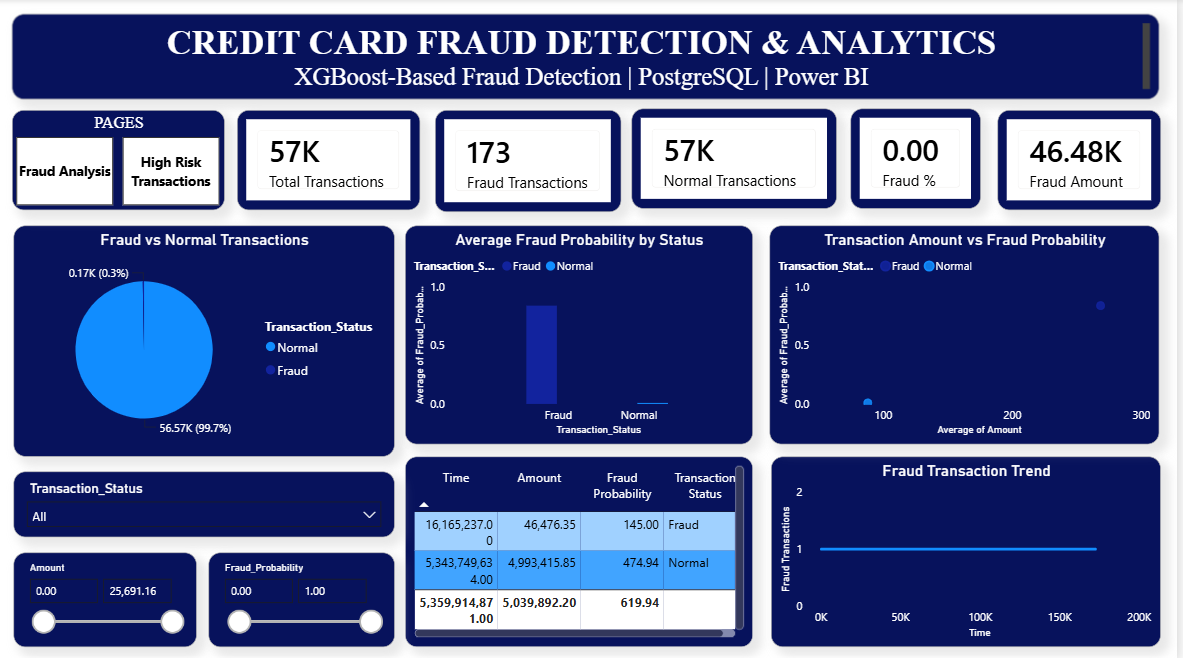

What the dashboard file says about the page in this screenshot:
{"tool":"powerbi","page":{"name":"Fraud Detection Dashboard","canvas":[1280,720],"ordinal":0},"visuals":[{"type":"textbox","box":[16.3,16.3,1244.3,92.7],"z":0},{"type":"cardVisual","fields":{"Data":["fraud_predictions.Total Transactions"]},"box":[260.2,120.4,198.4,109],"z":1000},{"type":"cardVisual","fields":{"Data":["fraud_predictions.Fraud Transactions"]},"box":[475,120.4,201.7,110.6],"z":2000},{"type":"cardVisual","fields":{"Data":["fraud_predictions.Normal Transactions"]},"box":[688,118.7,222.8,109],"z":3000},{"type":"cardVisual","fields":{"Data":["fraud_predictions.Fraud %"]},"box":[925.5,118.7,141.5,109],"z":4000},{"type":"cardVisual","fields":{"Data":["fraud_predictions.Fraud Amount"]},"box":[1084.9,120.4,177.3,109],"z":5000},{"type":"pieChart","title":"Fraud vs Normal Transactions","fields":{"Category":["fraud_predictions.Transaction_Status"],"Y":["CountNonNull(fraud_predictions.Transaction_Status)"]},"box":[17.9,245.6,413.1,250.5],"z":6000},{"type":"clusteredColumnChart","title":"Average Fraud Probability by Status","fields":{"Category":["fraud_predictions.Transaction_Status"],"Y":["Avg(fraud_predictions.Fraud_Probability)"],"Series":["fraud_predictions.Transaction_Status"]},"box":[442.4,245.6,377.4,237.5],"z":7000},{"type":"lineChart","title":"Fraud Transaction Trend","fields":{"Category":["fraud_predictions.Time"],"Y":["fraud_predictions.Fraud Transactions"]},"box":[839.3,496.1,422.9,206.6],"z":8000},{"type":"scatterChart","title":"Transaction Amount vs Fraud Probability","fields":{"Category":["fraud_predictions.Transaction_Status"],"X":["Avg(fraud_predictions.Amount)"],"Y":["Avg(fraud_predictions.Fraud_Probability)"],"Series":["fraud_predictions.Transaction_Status"]},"box":[837.7,245.6,422.9,237.5],"z":9000},{"type":"tableEx","title":"High Risk Transactions Table","fields":{"Values":["Sum(fraud_predictions.Time)","Sum(fraud_predictions.Amount)","Sum(fraud_predictions.Fraud_Probability)","fraud_predictions.Transaction_Status"]},"box":[442.4,496.1,377.4,206.6],"z":10000},{"type":"slicer","fields":{"Values":["fraud_predictions.Transaction_Status"]},"box":[17.9,512.4,413.1,71.6],"z":11000},{"type":"slicer","fields":{"Values":["fraud_predictions.Amount"]},"box":[17.9,600.2,198.4,102.5],"z":12000},{"type":"slicer","fields":{"Values":["fraud_predictions.Fraud_Probability"]},"box":[229.3,600.2,201.7,102.5],"z":13000},{"type":"pageNavigator","title":"PAGES","box":[16.3,120.4,231,109],"z":13001}]}

Visuals, with their boxes in screenshot pixels (x1, y1, x2, y2), scaled from the page's 1280x720 canvas onto the 1183x658 screenshot:
textbox: l=15, t=15, r=1165, b=100
cardVisual - fraud_predictions.Total Transactions: l=240, t=110, r=424, b=210
cardVisual - fraud_predictions.Fraud Transactions: l=439, t=110, r=625, b=211
cardVisual - fraud_predictions.Normal Transactions: l=636, t=108, r=842, b=208
cardVisual - fraud_predictions.Fraud %: l=855, t=108, r=986, b=208
cardVisual - fraud_predictions.Fraud Amount: l=1003, t=110, r=1167, b=210
"Fraud vs Normal Transactions" pieChart: l=17, t=224, r=398, b=453
"Average Fraud Probability by Status" clusteredColumnChart: l=409, t=224, r=758, b=441
"Fraud Transaction Trend" lineChart: l=776, t=453, r=1167, b=642
"Transaction Amount vs Fraud Probability" scatterChart: l=774, t=224, r=1165, b=441
"High Risk Transactions Table" tableEx: l=409, t=453, r=758, b=642
slicer - fraud_predictions.Transaction_Status: l=17, t=468, r=398, b=534
slicer - fraud_predictions.Amount: l=17, t=549, r=200, b=642
slicer - fraud_predictions.Fraud_Probability: l=212, t=549, r=398, b=642
"PAGES" pageNavigator: l=15, t=110, r=229, b=210
